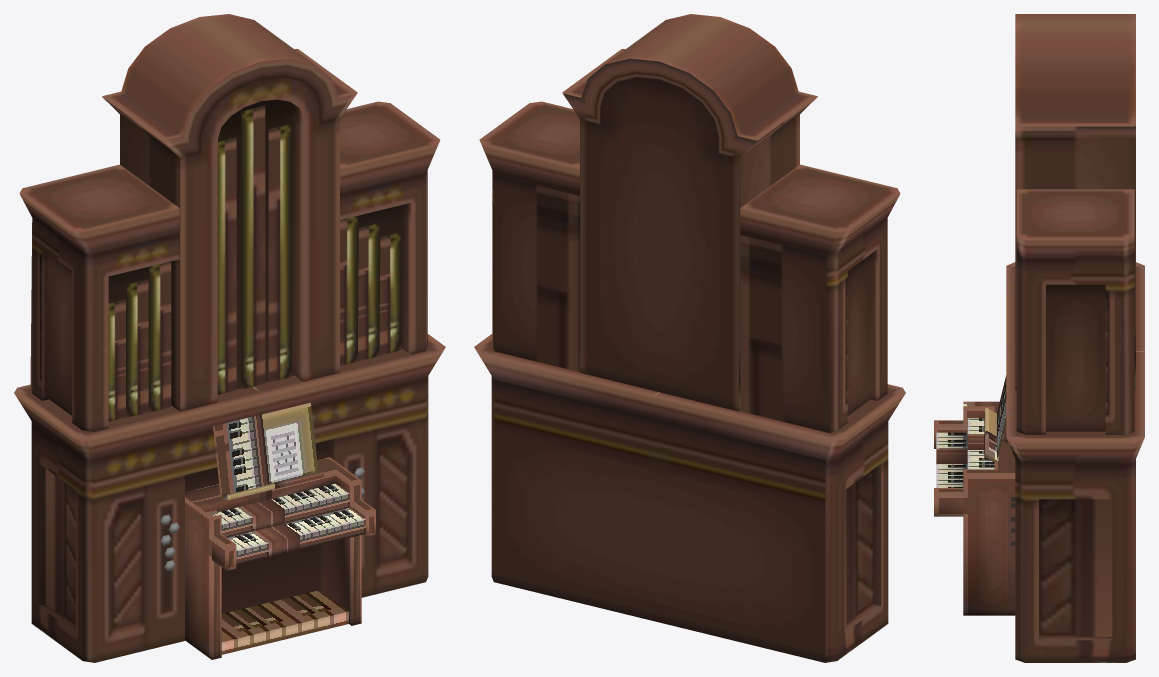
The model's file is int_oth_pipeorgan.dae.
3 views of the same model, side by side, from view 1: azimuth 30°, elevation 25°; view 2: azimuth 150°, elevation 25°; view 3: azimuth 270°, elevation 25° (orthographic).
Visible parts, largest first — view 1: int_oth_pipeorgan; view 2: int_oth_pipeorgan; view 3: int_oth_pipeorgan.
Boxes of the visible parts, <box> form: int_oth_pipeorgan: <box>14,14,445,662</box>; int_oth_pipeorgan: <box>474,14,905,662</box>; int_oth_pipeorgan: <box>934,14,1144,662</box>.
Size of the model in its own units: 61.99 by 89.55 by 30.81.
2 materials, 2 textured.
